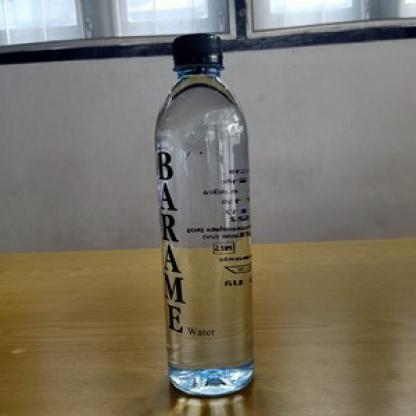plastic_bottle: (154, 30, 259, 396)
